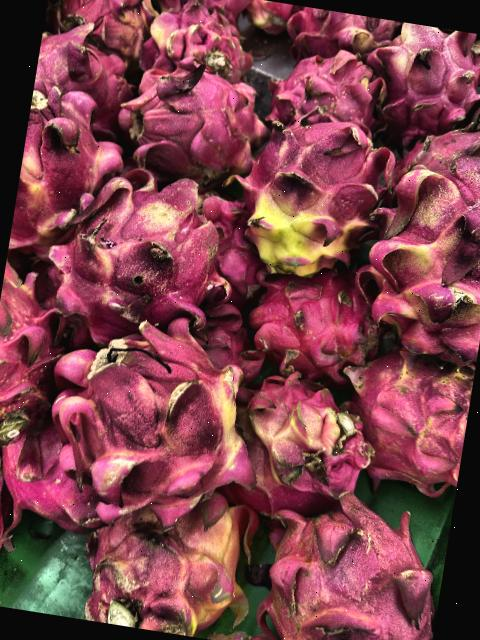buah-naga-belum-matang: (40, 310, 274, 512), (50, 169, 236, 353), (355, 117, 480, 366), (78, 484, 264, 640), (237, 112, 388, 288), (228, 366, 366, 513), (140, 0, 260, 79), (49, 0, 150, 53)
buah-naga-matang: (256, 485, 452, 640), (12, 41, 138, 248), (330, 334, 478, 498), (118, 50, 270, 186), (252, 268, 382, 384), (0, 260, 71, 453), (367, 19, 480, 138), (0, 428, 109, 532), (270, 41, 380, 138), (280, 4, 398, 64), (0, 444, 26, 604)
